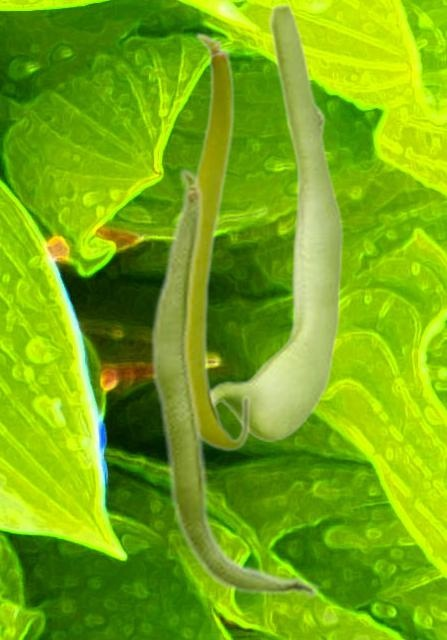french_bean: (148, 166, 320, 599), (212, 1, 342, 440), (190, 31, 250, 451)
